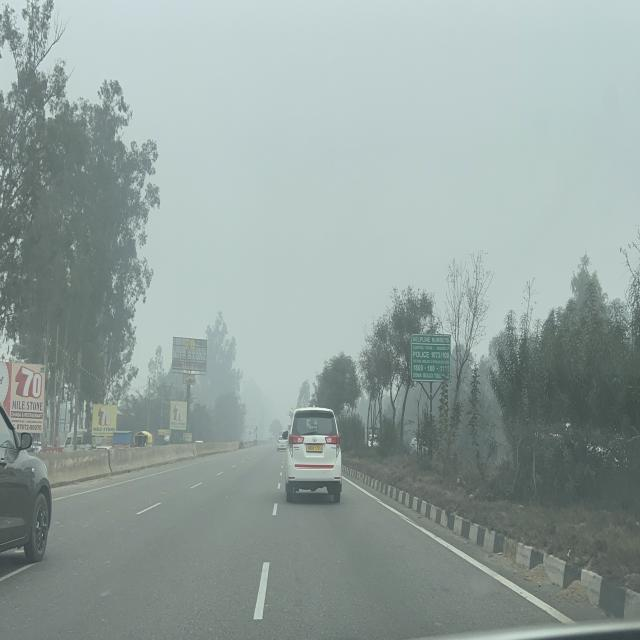GENERAL: (411, 336, 451, 384)
